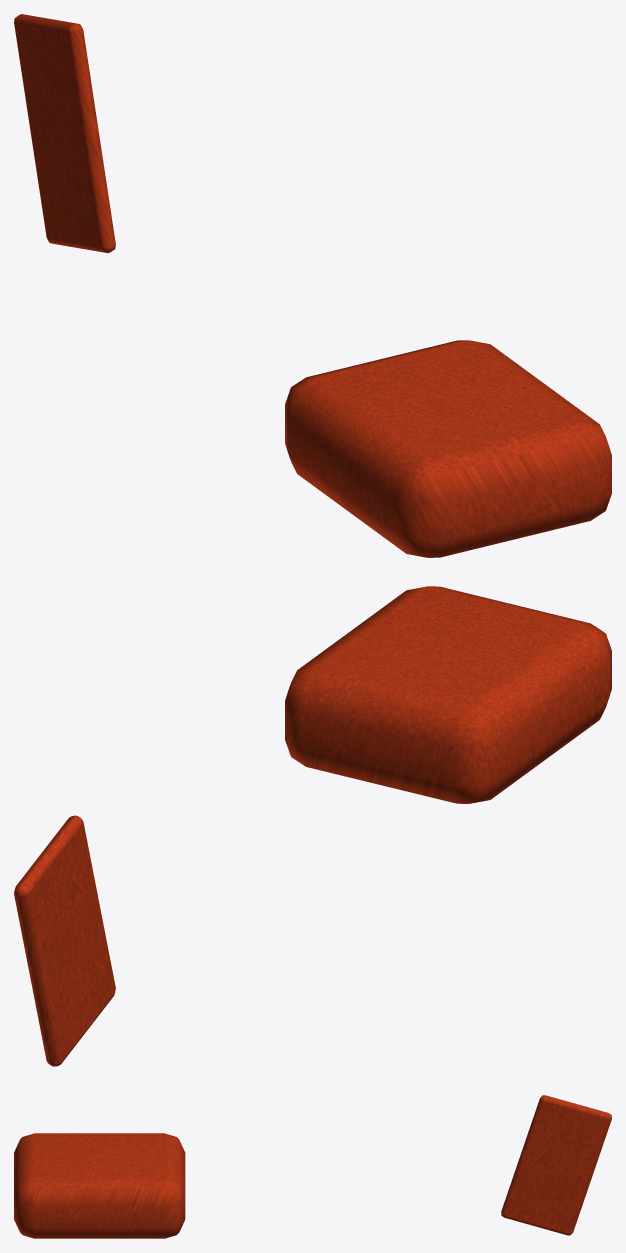
3 views of the same model, one above another, from view 1: azimuth 30°, elevation 25°; view 2: azimuth 150°, elevation 25°; view 3: azimuth 270°, elevation 25° (orthographic). The views are drawn at different scales.
Size of the model in its own units: 1.27 by 1.35 by 5.24.
1 material, 1 textured.
